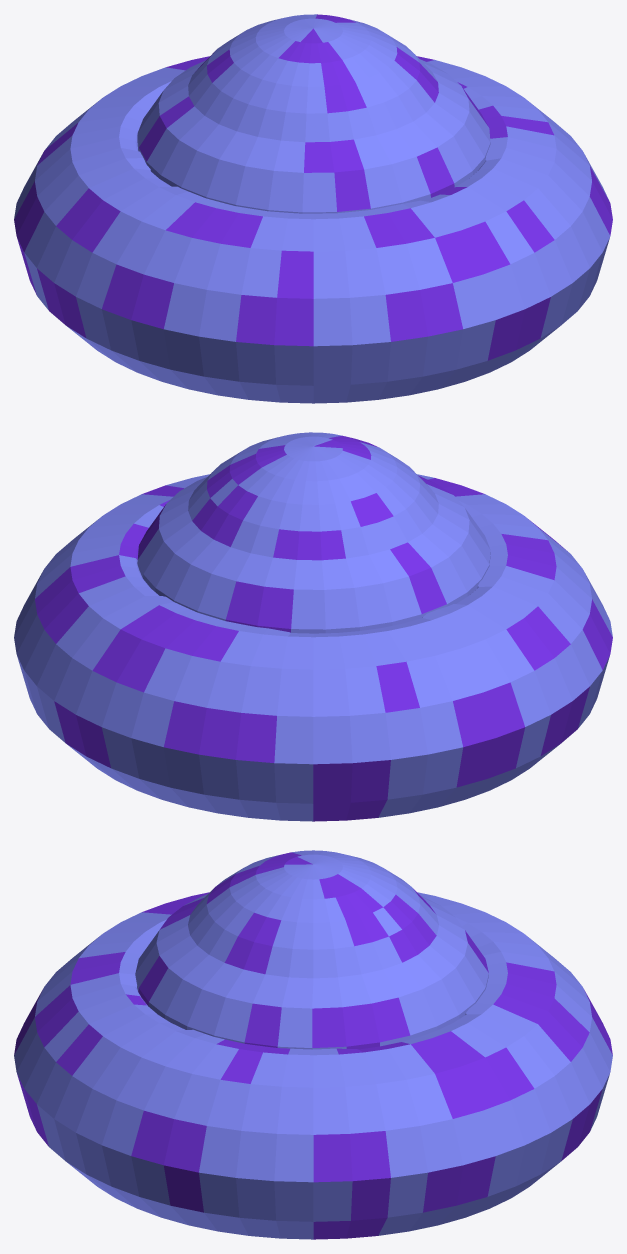
Rendered from Slime_Death.fbx.
3 renders of one model, top to bottom at view 1: azimuth 30°, elevation 25°; view 2: azimuth 150°, elevation 25°; view 3: azimuth 270°, elevation 25°, orthographic.
Visible parts, largest first — view 1: Torus; view 2: Torus; view 3: Torus.
Part boxes in pixels (left/top/right/bottom): Torus: left=14, top=14, right=612, bottom=403; Torus: left=14, top=432, right=612, bottom=821; Torus: left=14, top=850, right=612, bottom=1239.
Size of what is drawn, in the model's own units: 300 by 156 by 300.
